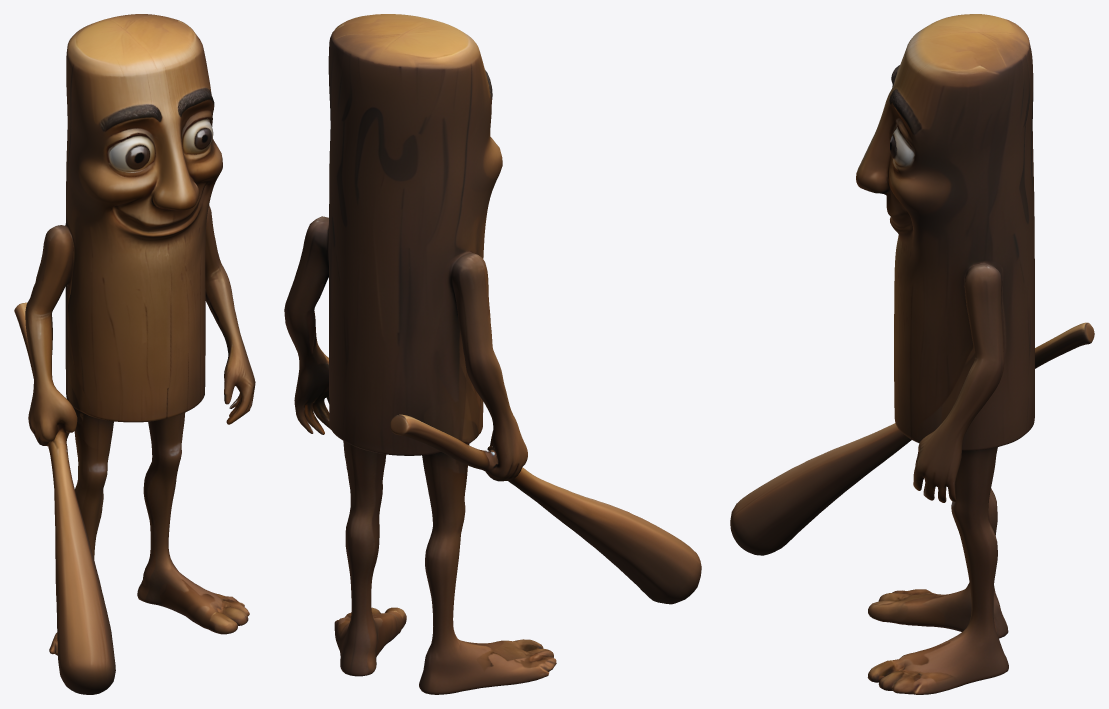
3 renders of one model, left to right at view 1: azimuth 30°, elevation 25°; view 2: azimuth 150°, elevation 25°; view 3: azimuth 270°, elevation 25°, orthographic. The views are drawn at different scales.
Parts seen in each view (by area): view 1: model.001_Material_0; view 2: model.001_Material_0; view 3: model.001_Material_0.
Part boxes in pixels (x1,y1,x2,y2): model.001_Material_0: (14,14,255,694); model.001_Material_0: (284,14,701,694); model.001_Material_0: (730,14,1094,694).
Size of the model in its own units: 7.04 by 14.15 by 7.54.
1 material, 1 textured.
